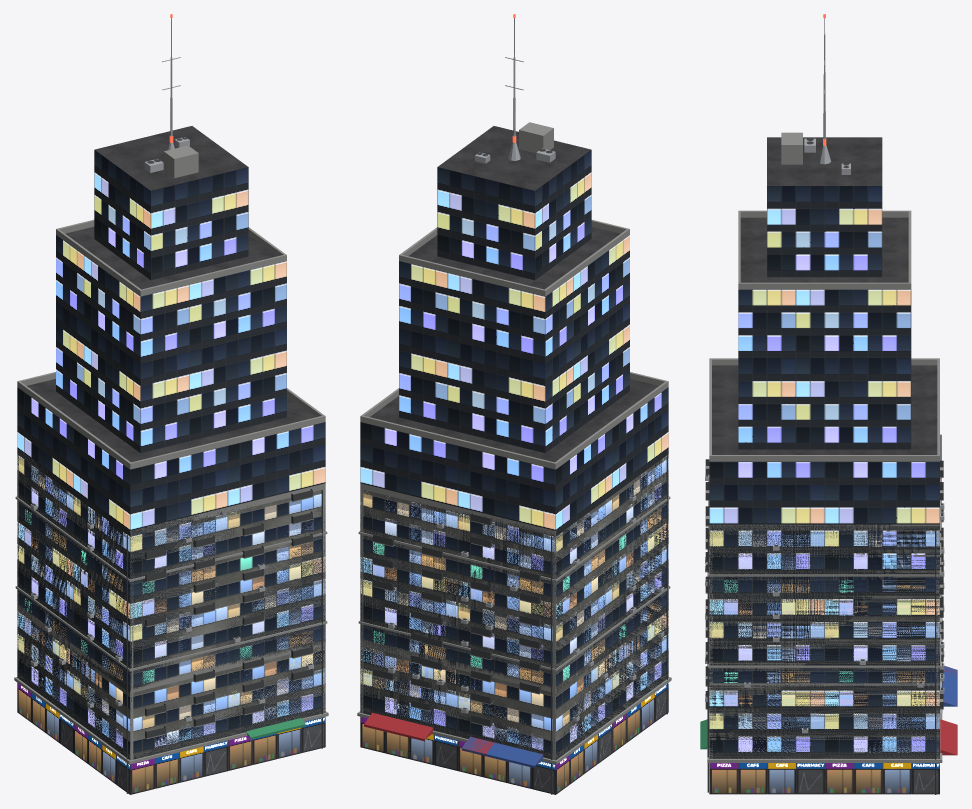
File: city.glb
The picture shows the model from 3 angles, left to right: view 1: azimuth 30°, elevation 25°; view 2: azimuth 150°, elevation 25°; view 3: azimuth 270°, elevation 25°; orthographic projection. The views are drawn at different scales.
Visible parts, largest first — view 1: bld_glass, bld_concrete, bld_lowrise, bld_resi, bld_brick; view 2: bld_glass, bld_concrete, bld_lowrise, bld_resi, bld_brick; view 3: bld_glass, bld_concrete, bld_lowrise, bld_resi.
Boxes of the visible parts, left/top/right/bottom form: bld_glass: left=14, top=14, right=328, bottom=794; bld_concrete: left=15, top=449, right=327, bottom=793; bld_lowrise: left=17, top=605, right=325, bottom=793; bld_resi: left=145, top=489, right=312, bottom=739; bld_brick: left=246, top=718, right=305, bottom=739; bld_glass: left=357, top=14, right=671, bottom=794; bld_concrete: left=358, top=454, right=670, bottom=794; bld_lowrise: left=360, top=612, right=668, bottom=793; bld_resi: left=373, top=512, right=540, bottom=727; bld_brick: left=411, top=610, right=430, bottom=711; bld_glass: left=707, top=14, right=957, bottom=794; bld_concrete: left=705, top=434, right=957, bottom=794; bld_lowrise: left=705, top=657, right=957, bottom=791; bld_resi: left=705, top=459, right=943, bottom=709.
Size of what is drawn, in the model's own units: 33.2 by 112 by 35.7.
39 materials, 9 textured.
